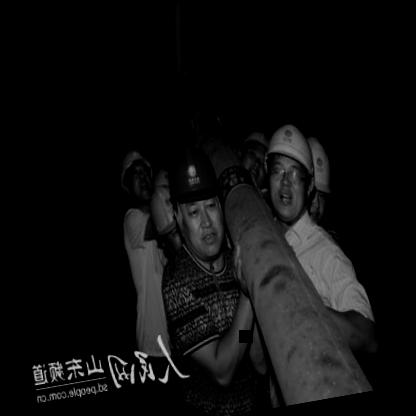helmet: (158, 140, 230, 252), (254, 116, 322, 229), (294, 132, 340, 224), (142, 184, 186, 262), (113, 142, 160, 210), (235, 128, 278, 188)
